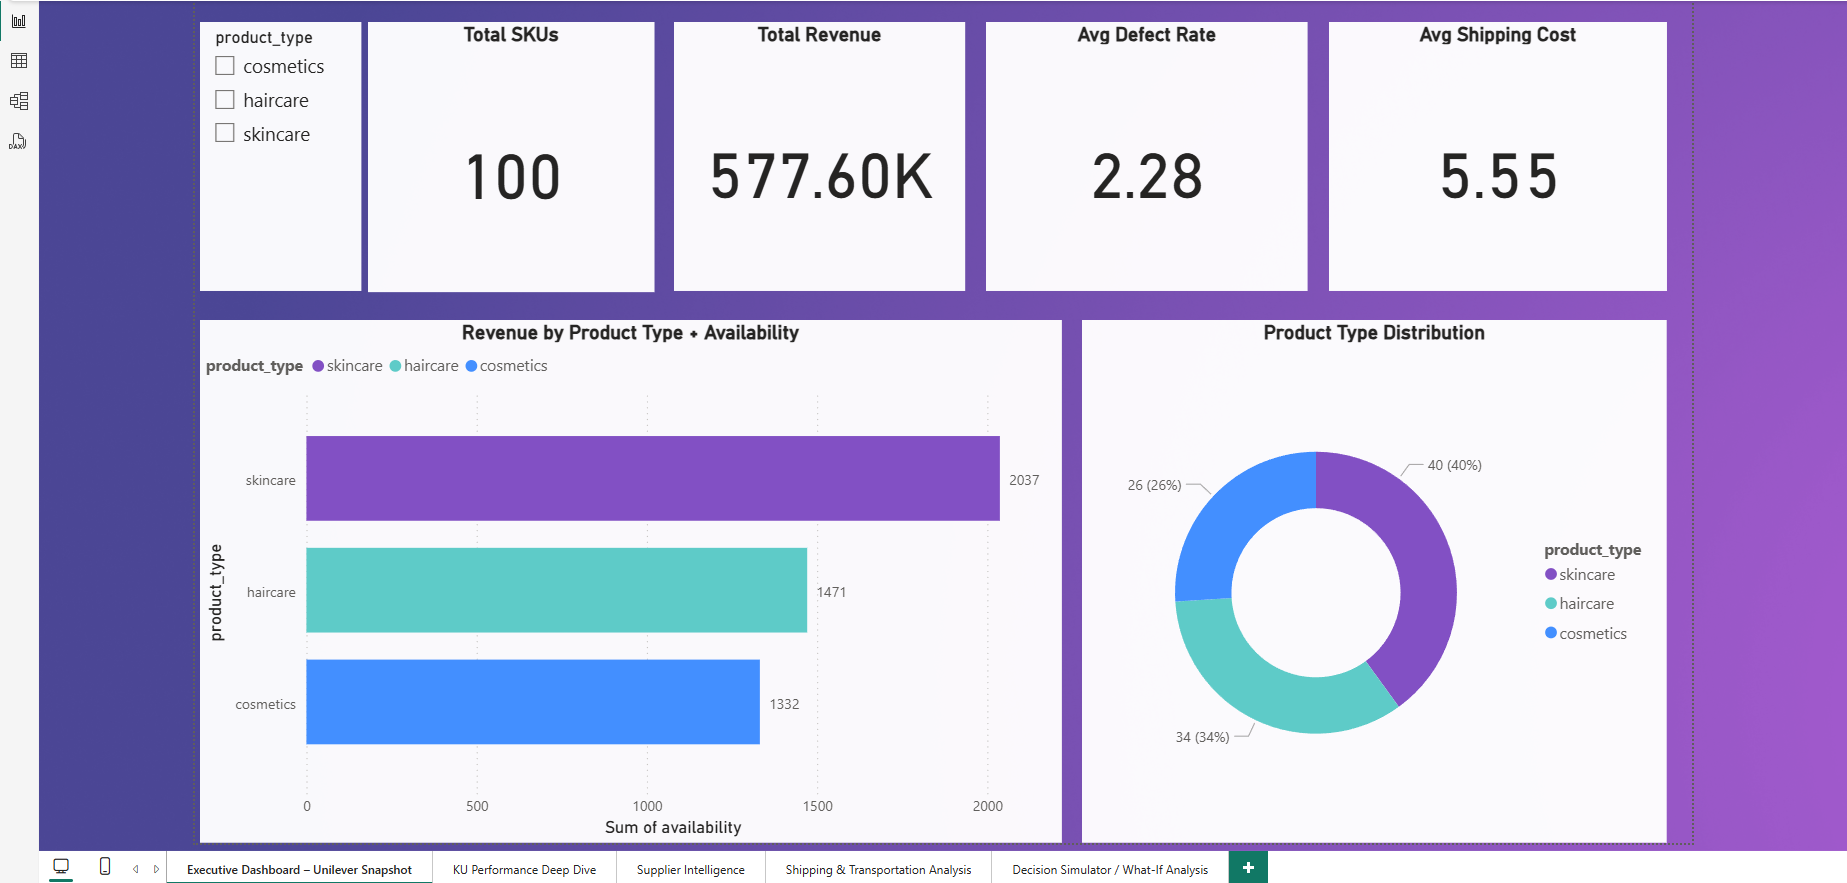

The dashboard page shown, as its layout file describes it:
{"tool":"powerbi","page":{"name":"Executive Dashboard – Unilever Snapshot","canvas":[1280,720],"ordinal":0},"visuals":[{"type":"card","title":"Total Revenue\t","fields":{"Values":["Sum(cleaned_supply_chain_data.revenue_generated)"]},"box":[409.4,17.9,249,230],"z":0},{"type":"card","title":"Avg Defect Rate","fields":{"Values":["Avg(cleaned_supply_chain_data.defect_rates)"]},"box":[676.4,17.9,275.4,230],"z":1000},{"type":"card","title":"Avg Shipping Cost","fields":{"Values":["Avg(cleaned_supply_chain_data.shipping_costs)"]},"box":[969.8,17.9,289.1,230],"z":2000},{"type":"barChart","title":"Revenue by Product Type + Availability","fields":{"Series":["cleaned_supply_chain_data.product_type"],"Y":["Sum(cleaned_supply_chain_data.availability)"],"Category":["cleaned_supply_chain_data.product_type"]},"box":[4.2,272.6,736.6,447.4],"z":3000},{"type":"donutChart","title":"Product Type Distribution","fields":{"Category":["cleaned_supply_chain_data.product_type"],"Y":["CountNonNull(cleaned_supply_chain_data.product_type)"]},"box":[758.7,272.6,500.2,447.4],"z":4000},{"type":"card","title":"Total SKUs","fields":{"Values":["Count(cleaned_supply_chain_data.sku)"]},"box":[147.7,17.9,244.8,231.1],"z":5000},{"type":"slicer","fields":{"Values":["cleaned_supply_chain_data.product_type"]},"box":[4.2,17.9,138.2,230],"z":6000}]}

Visuals, with their boxes in screenshot pixels (x1, y1, x2, y2):
"Total Revenue	" card: box(671, 21, 962, 290)
"Avg Defect Rate" card: box(983, 21, 1305, 290)
"Avg Shipping Cost" card: box(1326, 21, 1664, 290)
"Revenue by Product Type + Availability" barChart: box(197, 319, 1059, 842)
"Product Type Distribution" donutChart: box(1079, 319, 1664, 842)
"Total SKUs" card: box(365, 21, 651, 291)
slicer - cleaned_supply_chain_data.product_type: box(197, 21, 359, 290)
